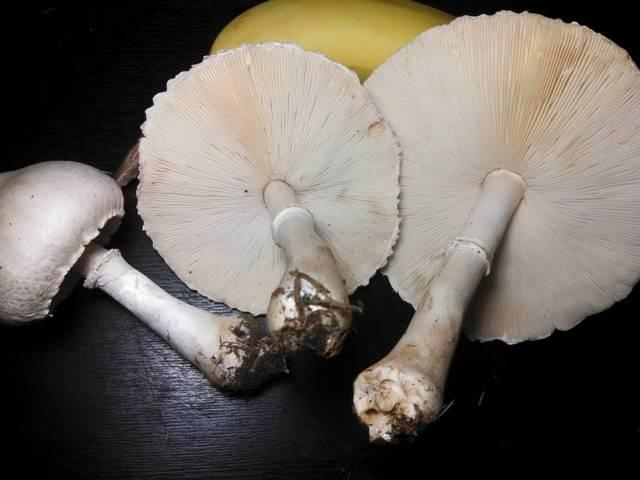Non-edible Mushroom: (350, 8, 638, 446), (133, 39, 403, 358), (0, 151, 254, 422)
